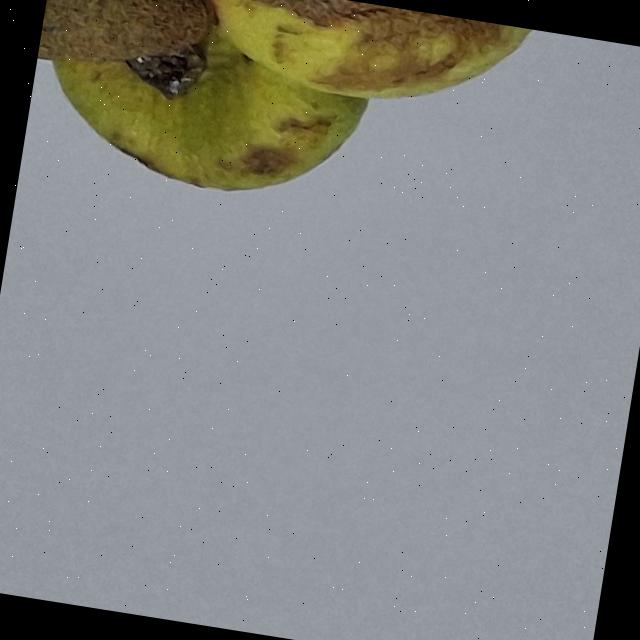mangosteen: (16, 0, 640, 291)
